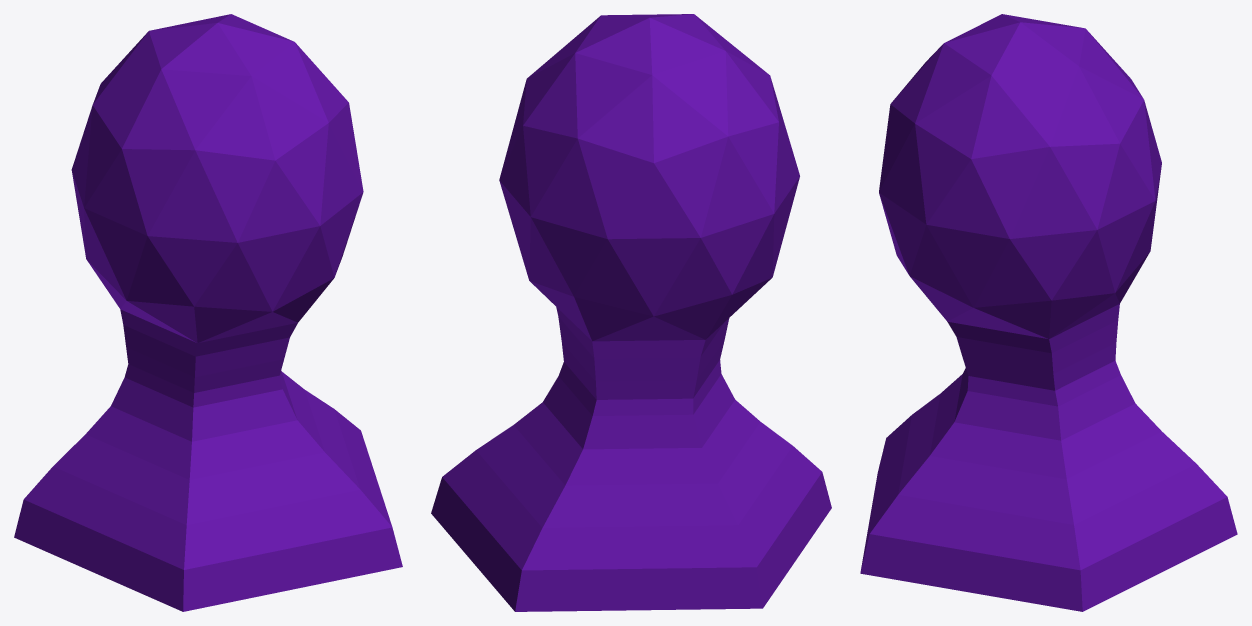
File: LavaBubble_1.fbx
3 renders of one model, left to right at view 1: azimuth 30°, elevation 25°; view 2: azimuth 150°, elevation 25°; view 3: azimuth 270°, elevation 25°, orthographic. The views are drawn at different scales.
Parts seen in each view (by area): view 1: LavaBubble_1; view 2: LavaBubble_1; view 3: LavaBubble_1.
Part boxes in pixels (bbox=[...]): LavaBubble_1: bbox=[14, 14, 402, 611]; LavaBubble_1: bbox=[431, 14, 831, 611]; LavaBubble_1: bbox=[860, 14, 1237, 611].
Size of the model in its own units: 292 by 416 by 284.
